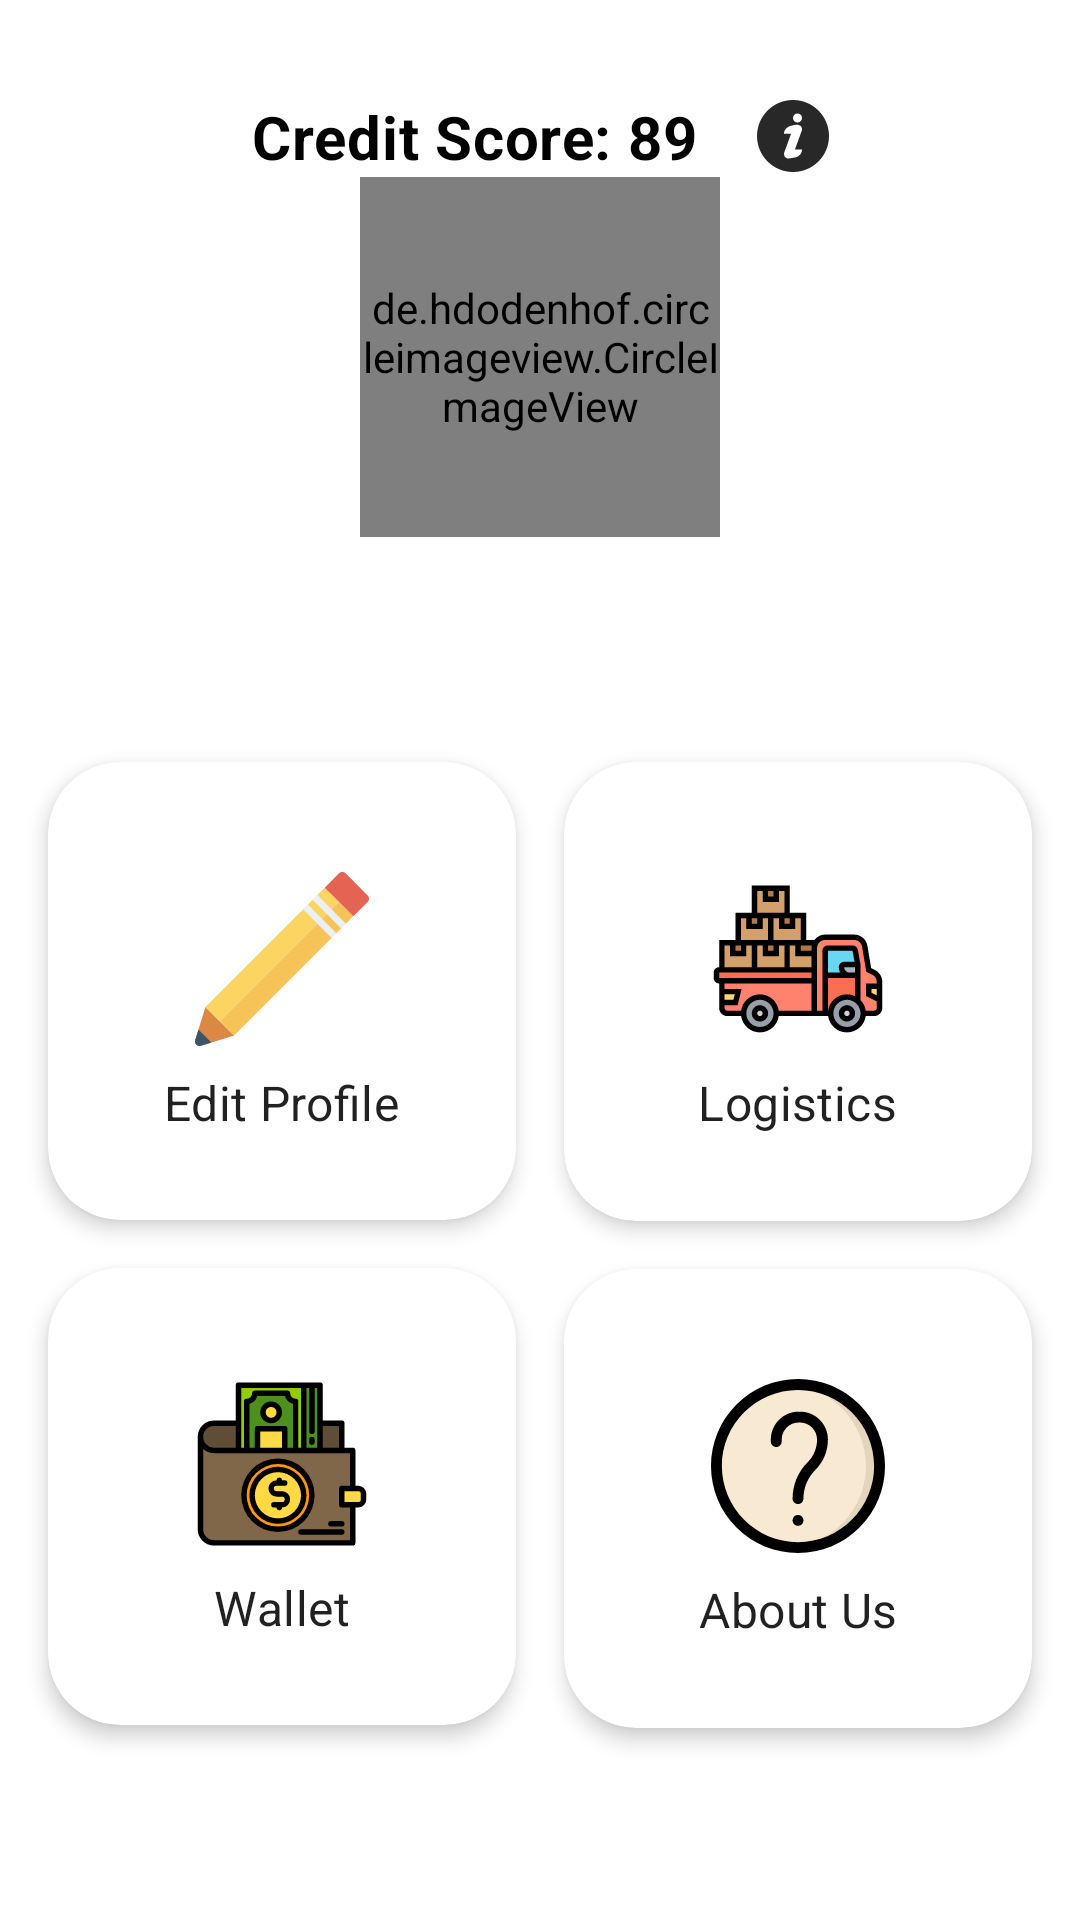

Named icons in this screenshot (1080 x 1920) and their centers, (x,y):
pencil: (282,959)
